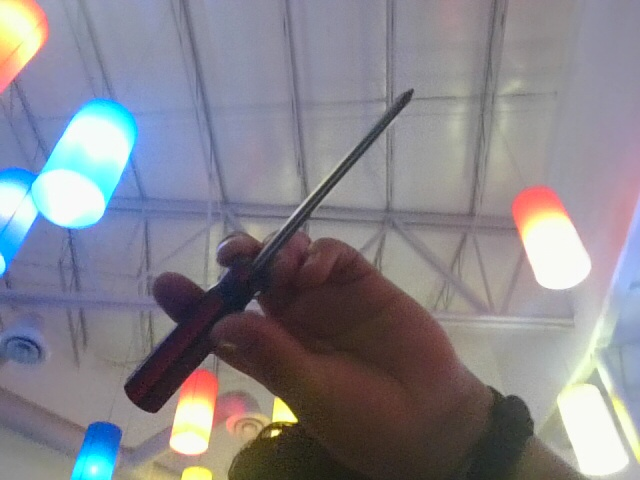destornillador: (126, 91, 412, 410)
